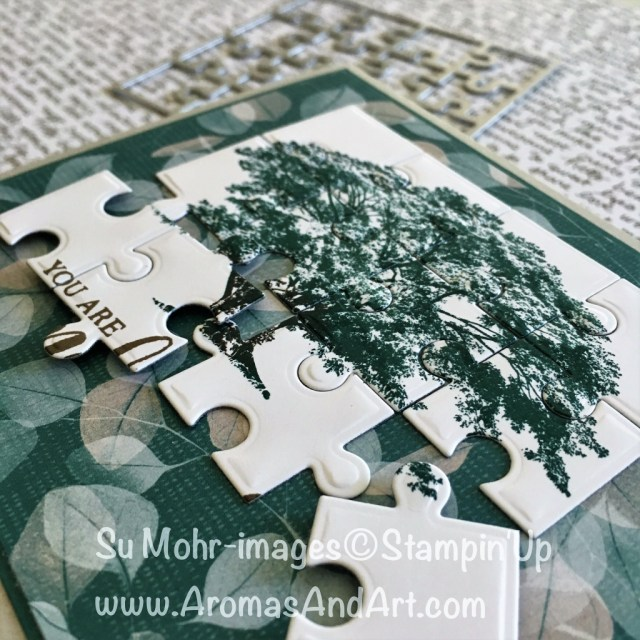puzzle piece: (150, 302, 416, 508), (39, 227, 264, 368), (3, 165, 184, 285)
